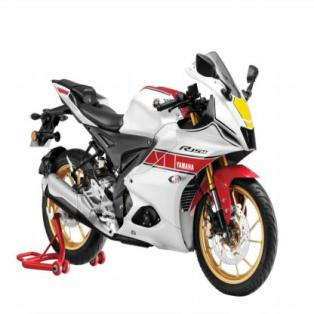Motocicleta: (18, 32, 282, 296)
